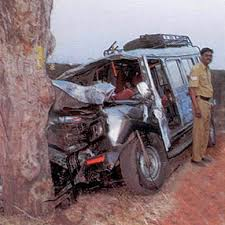accident: (18, 32, 173, 191)
